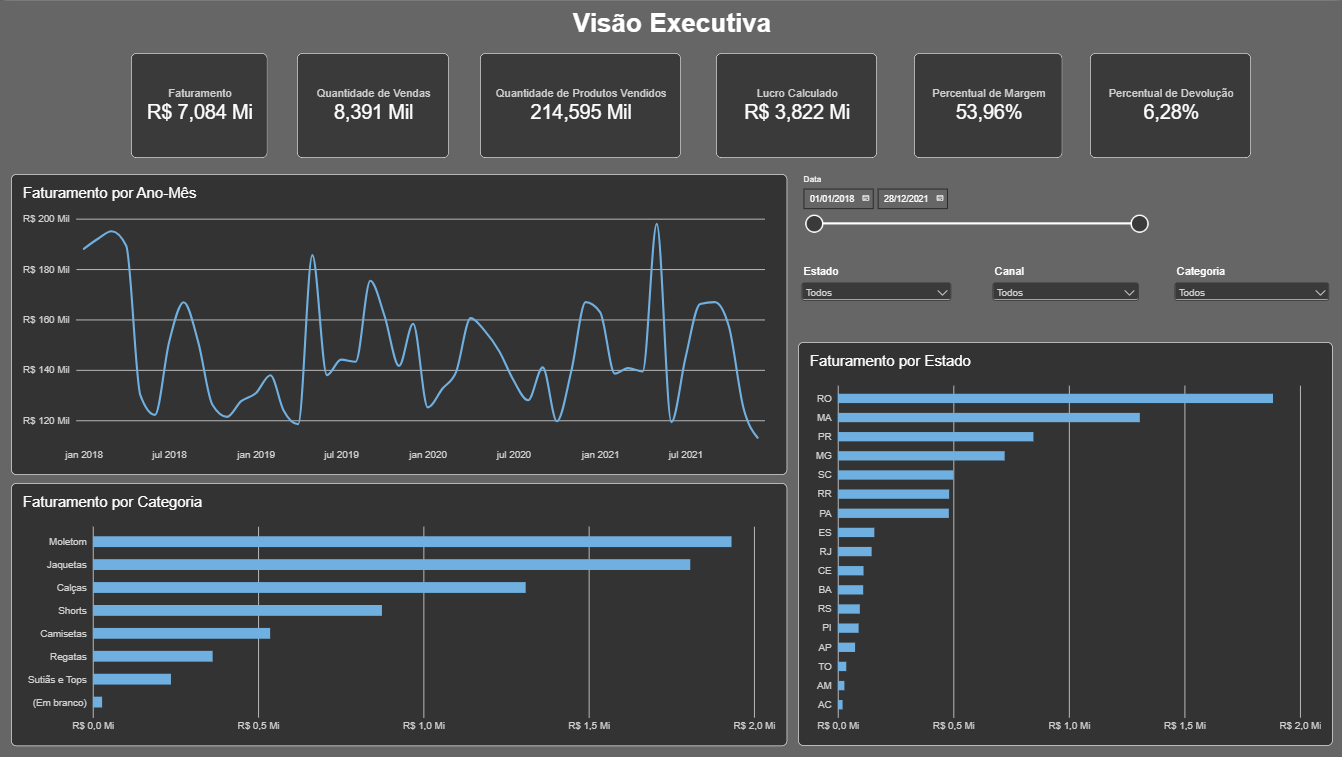

Layout of this report page (visuals, bound fields, positions):
{"tool":"powerbi","page":{"name":"Visão Executiva","canvas":[1920,1080],"ordinal":0},"visuals":[{"type":"textbox","box":[0,10,1920,64.3],"z":0},{"type":"cardVisual","fields":{"Data":["Vendas.Quantidade de Produtos Vendidos"]},"box":[685.7,74.3,287.1,150],"z":1000},{"type":"cardVisual","fields":{"Data":["Vendas.Quantidade de Vendas"]},"box":[424.3,74.3,217.1,150],"z":2000},{"type":"cardVisual","fields":{"Data":["Vendas.Faturamento"]},"box":[187.1,74.3,195.7,150],"z":3000},{"type":"cardVisual","fields":{"Data":["Vendas.Lucro Calc"]},"box":[1022.9,74.3,230,150],"z":4000},{"type":"cardVisual","fields":{"Data":["Vendas.% Margem"]},"box":[1305.7,74.3,212.9,150],"z":5000},{"type":"cardVisual","fields":{"Data":["Devolução.% Devolução"]},"box":[1557.1,74.3,230,150],"z":6000},{"type":"lineChart","title":"Faturamento por Ano-Mês","fields":{"Category":["Calendário.Date.Variation.Hierarquia de datas.Ano","Calendário.Date.Variation.Hierarquia de datas.Mês"],"Y":["Vendas.Faturamento"]},"box":[15.7,247.1,1108.6,430],"z":7000},{"type":"barChart","title":"Faturamento por Estado","fields":{"Category":["Lojas.Estado"],"Y":["Vendas.Faturamento"]},"box":[1140,487.1,764.3,577.1],"z":8000},{"type":"barChart","title":"Faturamento por Categoria","fields":{"Category":["Produtos.Produto_Categoria"],"Y":["Vendas.Faturamento"]},"box":[15.7,688.6,1108.6,375.7],"z":9000},{"type":"slicer","fields":{"Values":["Calendário.Date"]},"box":[1140,247.1,504.3,104.3],"z":10000},{"type":"slicer","fields":{"Values":["Lojas.Estado"]},"box":[1140,377.1,224.3,85.7],"z":11000},{"type":"slicer","fields":{"Values":["Produtos.Produto_Categoria"]},"box":[1672.9,377.1,231.4,72.9],"z":12000},{"type":"slicer","fields":{"Values":["Lojas.Loja_canal"]},"box":[1412.9,377.1,218.6,74.3],"z":13000}]}

Visuals, with their boxes in screenshot pixels (x1, y1, x2, y2), scaled from the page's 1920x1080 canvas onto the 1342x757 screenshot:
textbox: region(0, 7, 1341, 52)
cardVisual - Vendas.Quantidade de Produtos Vendidos: region(479, 52, 680, 157)
cardVisual - Vendas.Quantidade de Vendas: region(297, 52, 448, 157)
cardVisual - Vendas.Faturamento: region(131, 52, 268, 157)
cardVisual - Vendas.Lucro Calc: region(715, 52, 876, 157)
cardVisual - Vendas.% Margem: region(913, 52, 1061, 157)
cardVisual - Devolução.% Devolução: region(1088, 52, 1249, 157)
"Faturamento por Ano-Mês" lineChart: region(11, 173, 786, 475)
"Faturamento por Estado" barChart: region(797, 341, 1331, 746)
"Faturamento por Categoria" barChart: region(11, 483, 786, 746)
slicer - Calendário.Date: region(797, 173, 1149, 246)
slicer - Lojas.Estado: region(797, 264, 954, 324)
slicer - Produtos.Produto_Categoria: region(1169, 264, 1331, 315)
slicer - Lojas.Loja_canal: region(988, 264, 1140, 316)
